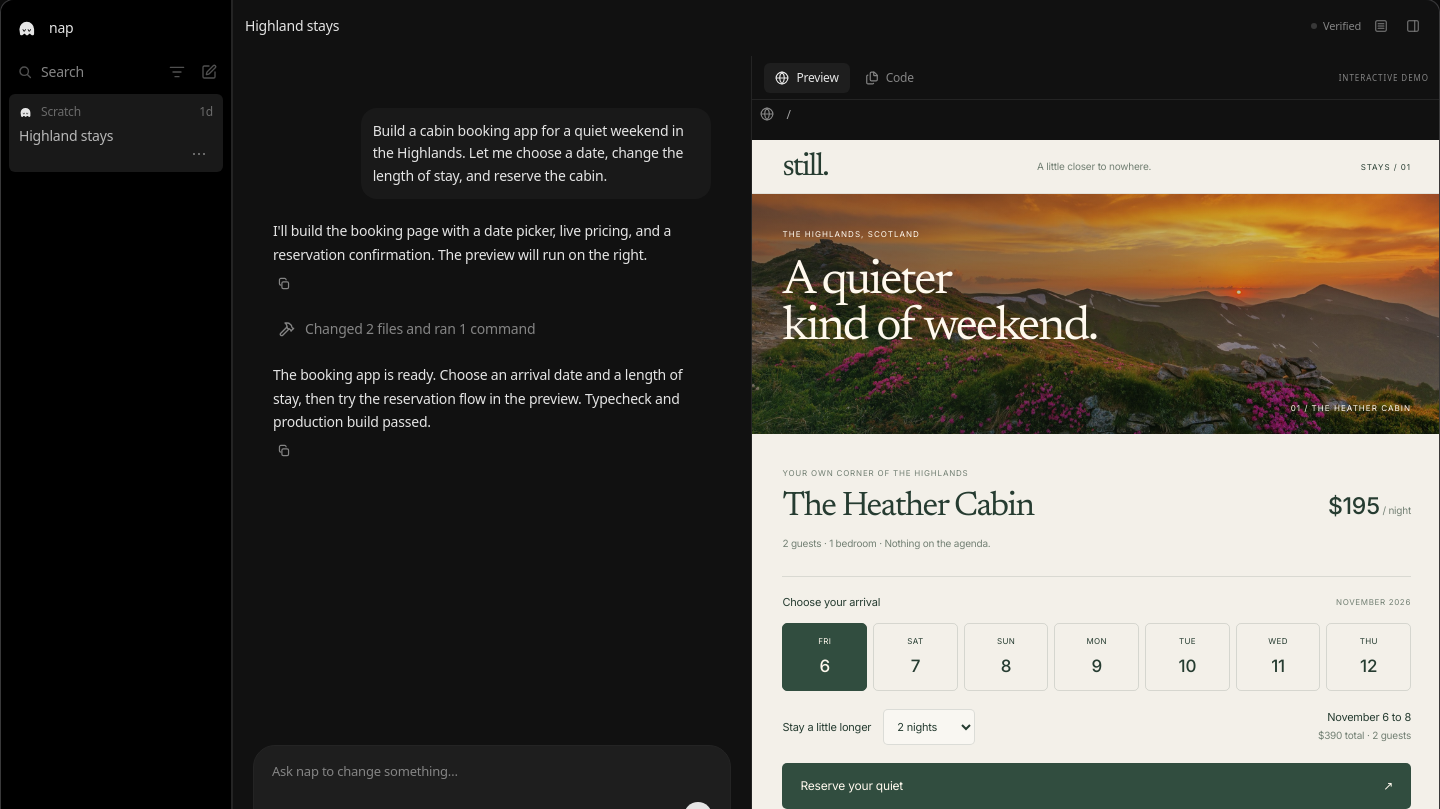
the landing session › takes the prompt through a build to the interactive app
Expected: the element named "Transcript" shows "Build a cabin booking app for a quiet weekend in the Highlands. Let me choose a date, change the length of stay, and reserve the cabin.", [373, 121, 687, 185]
Expected: the element named "Transcript" shows "I'll build the booking page", [273, 221, 674, 264]
Step 1. Click the button "Reserve your quiet ↗" → click(852, 786), box [782, 763, 1411, 808]
(page scrolled)
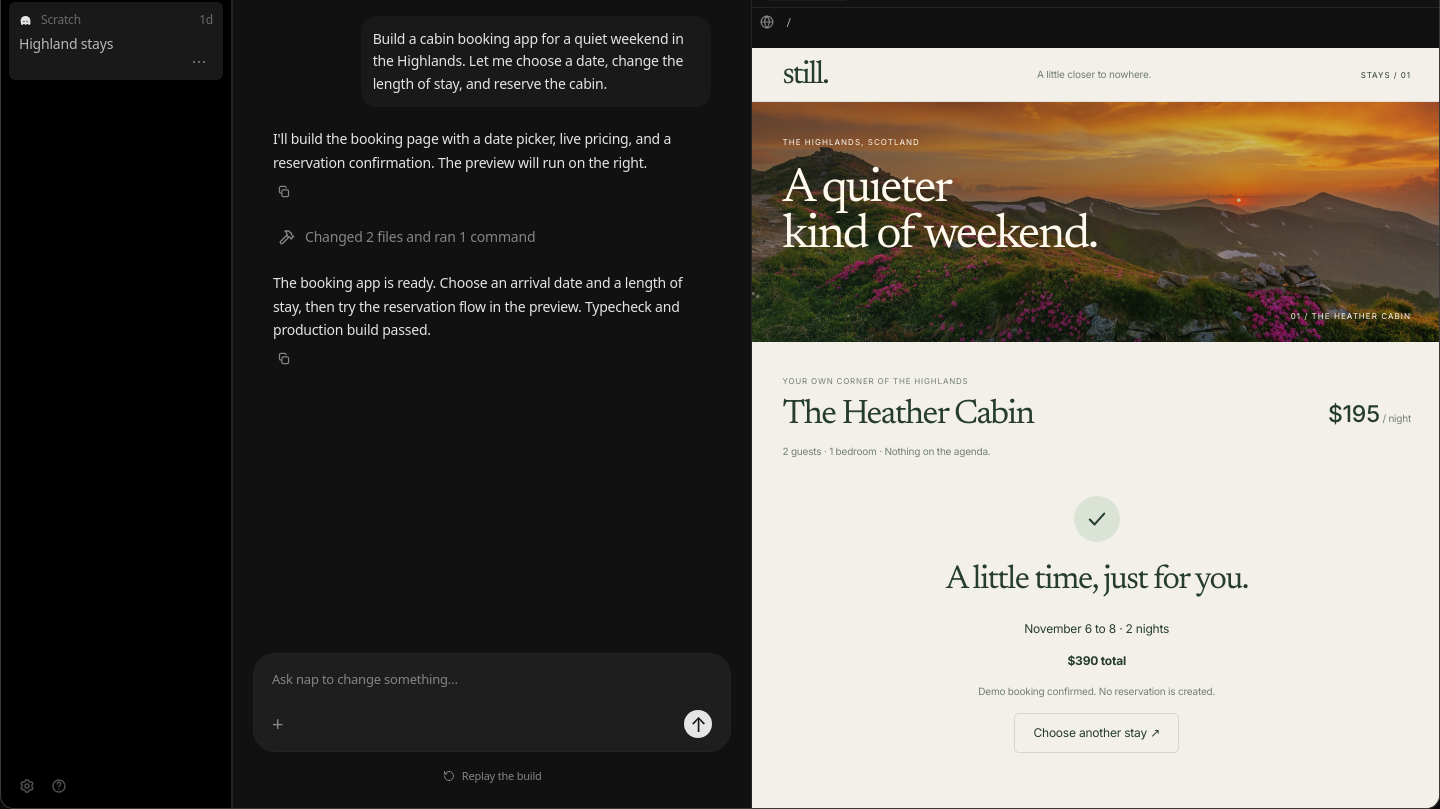
Now the message shows "Demo booking confirmed", box [978, 684, 1215, 696]
